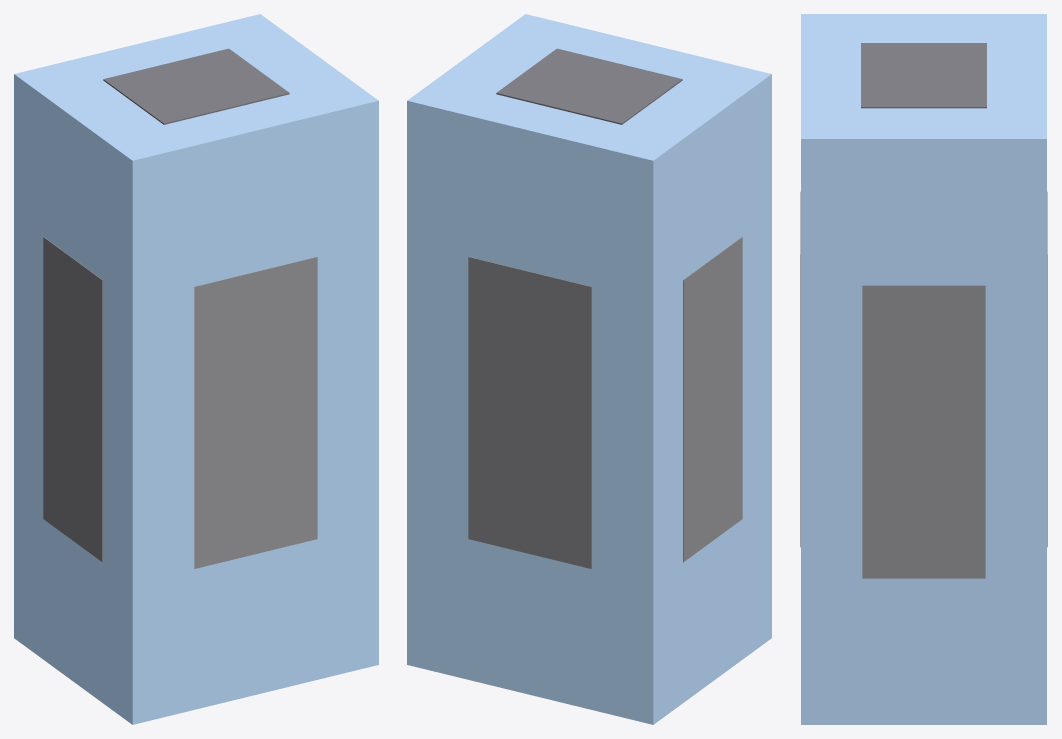
The model's file is office_4.glb.
The picture shows the model from 3 angles, left to right: view 1: azimuth 30°, elevation 25°; view 2: azimuth 150°, elevation 25°; view 3: azimuth 270°, elevation 25°; orthographic projection. The views are drawn at different scales.
Parts seen in each view (by area): view 1: office_4_body, office_4_col.002, office_4_col, office_4_roof; view 2: office_4_body, office_4_col.003, office_4_col, office_4_roof; view 3: office_4_body, office_4_col.001, office_4_roof.
Boxes of the visible parts, x1,y1,x2,y2 form: office_4_body: [14, 14, 378, 724]; office_4_col.002: [194, 257, 317, 568]; office_4_col: [43, 237, 102, 562]; office_4_roof: [103, 48, 289, 124]; office_4_body: [407, 14, 771, 724]; office_4_col.003: [468, 257, 591, 568]; office_4_col: [683, 237, 742, 562]; office_4_roof: [496, 48, 682, 124]; office_4_body: [801, 14, 1046, 724]; office_4_col.001: [862, 285, 985, 578]; office_4_roof: [861, 43, 986, 108].
Size of the model in its own units: 19.26 by 42.13 by 16.07.
